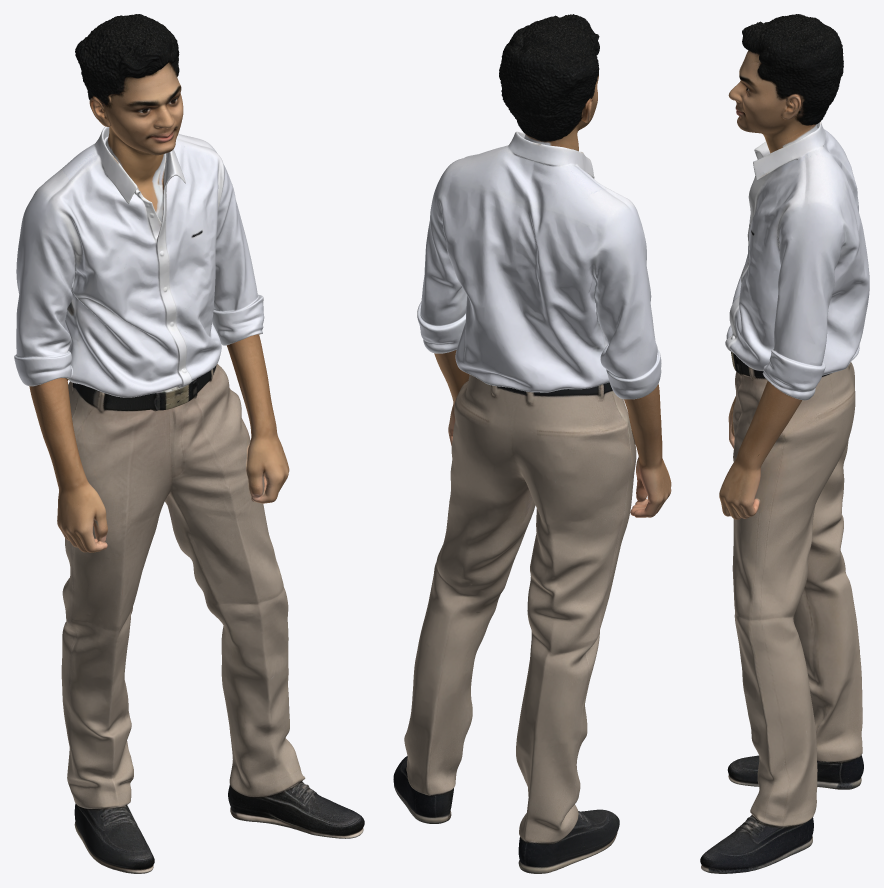
Rendered from Meshy_AI_Garden_Portrait_in_Wh_1013165657_texture.glb.
The picture shows the model from 3 angles, left to right: view 1: azimuth 30°, elevation 25°; view 2: azimuth 150°, elevation 25°; view 3: azimuth 270°, elevation 25°; orthographic projection. The views are drawn at different scales.
Size of the model in its own units: 0.7189 by 1.9 by 0.3794.
1 material, 1 textured.
